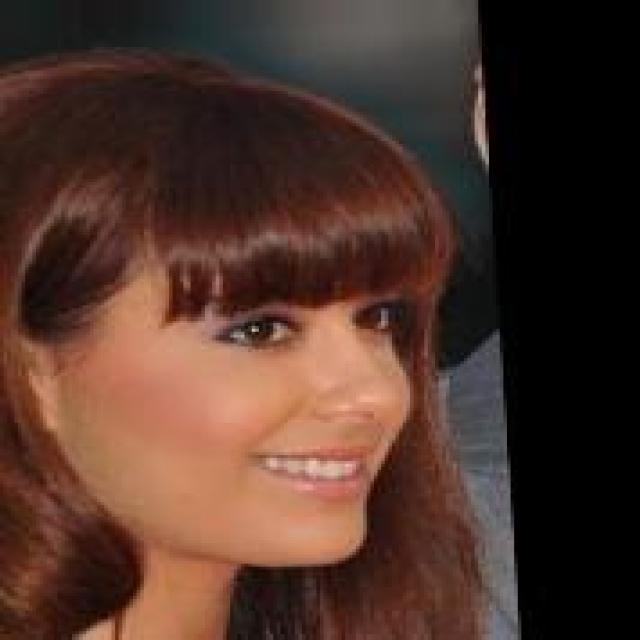bareface: (96, 220, 422, 586)
